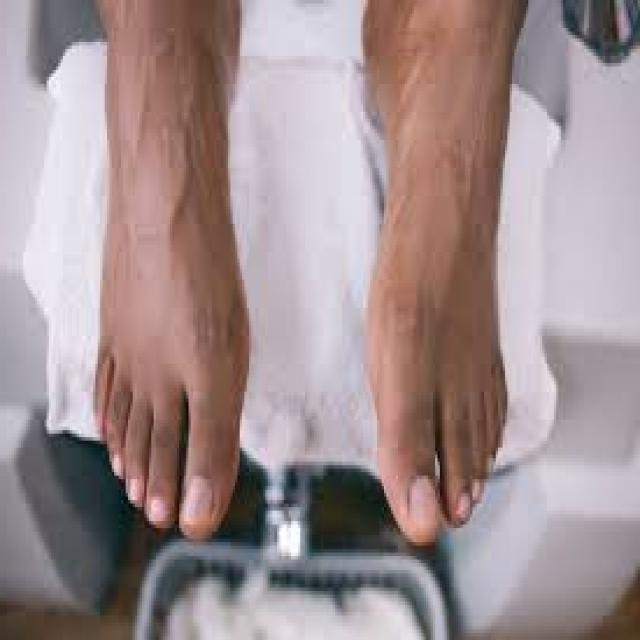No_Shoes: (53, 7, 283, 546), (339, 16, 557, 550)
